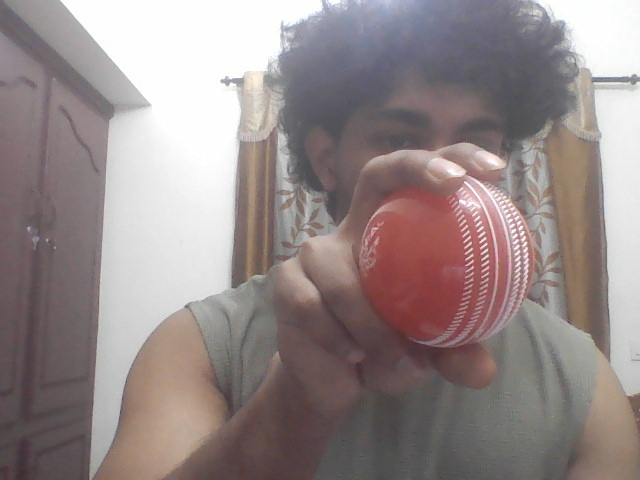cricket_ball: (353, 168, 544, 353)
